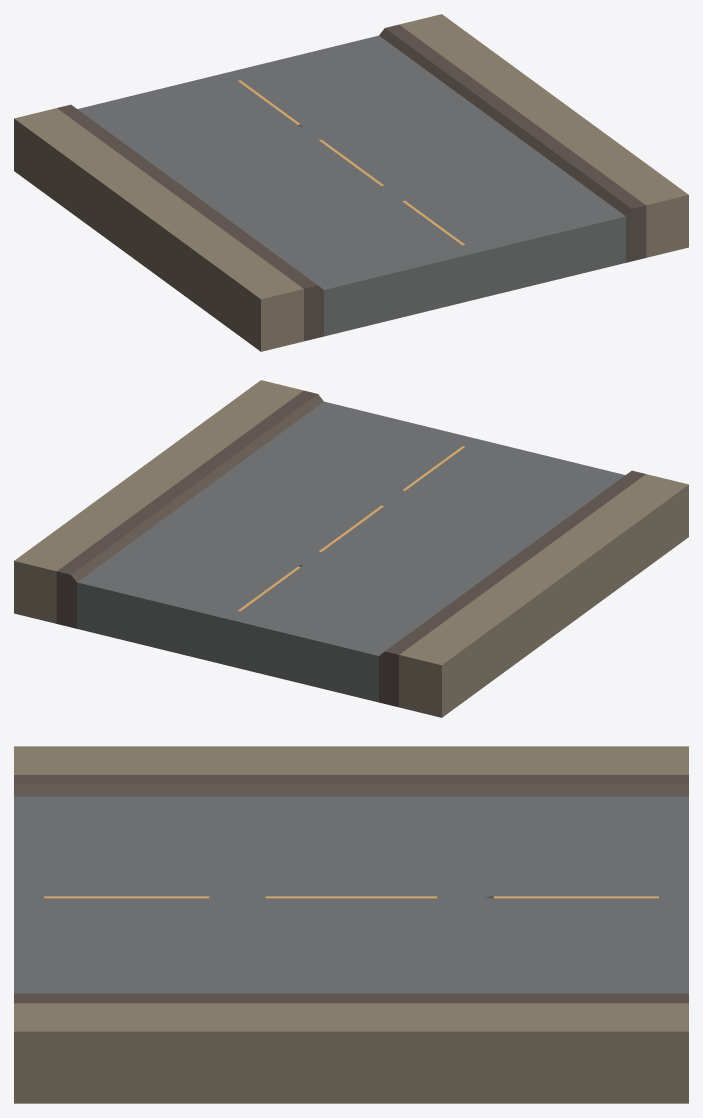
Rendered from Reta.fbx.
3 views of the same model, one above another, from view 1: azimuth 30°, elevation 25°; view 2: azimuth 150°, elevation 25°; view 3: azimuth 270°, elevation 25° (orthographic). The views are drawn at different scales.
Parts seen in each view (by area): view 1: Reta; view 2: Reta; view 3: Reta.
Part boxes in pixels (bbox=[...]): Reta: bbox=[14, 14, 688, 351]; Reta: bbox=[14, 380, 688, 717]; Reta: bbox=[14, 746, 688, 1103].
Bounding box in the file's own units: 200 × 23.48 × 200.
